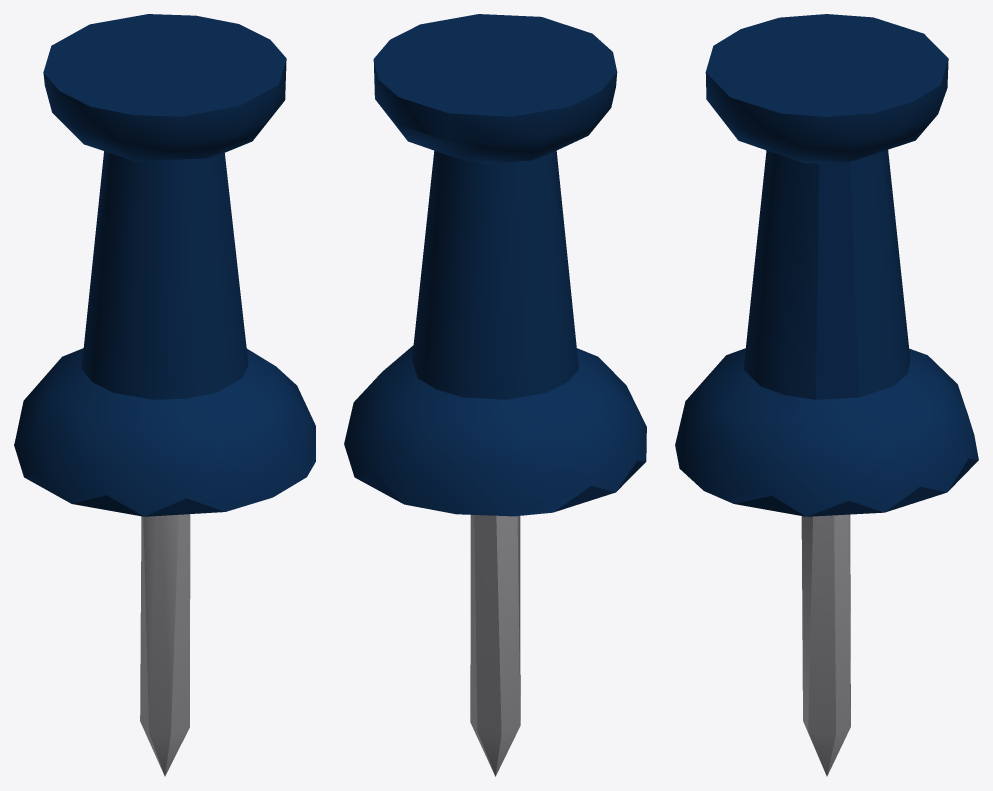
File: drawingPin.fbx
3 renders of one model, left to right at view 1: azimuth 30°, elevation 25°; view 2: azimuth 150°, elevation 25°; view 3: azimuth 270°, elevation 25°, orthographic.
Parts seen in each view (by area): view 1: Drawing pin; view 2: Drawing pin; view 3: Drawing pin.
Part boxes in pixels (x1=…): Drawing pin: x1=14, y1=14, x2=315, y2=776; Drawing pin: x1=344, y1=14, x2=646, y2=776; Drawing pin: x1=675, y1=14, x2=978, y2=776.
Bounding box in the file's own units: 0.989 × 0.9945 × 2.57.
2 materials, 2 textured.
